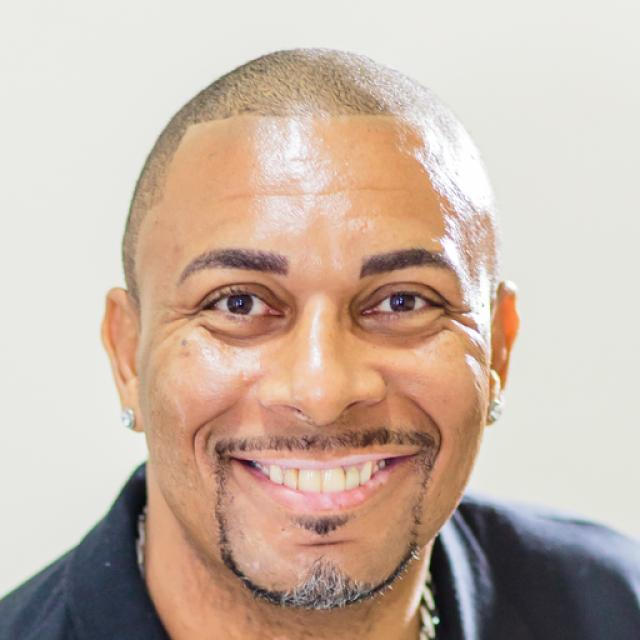Dark Circle: (352, 311, 445, 346), (206, 312, 297, 346)
Wrinkle: (229, 182, 424, 201), (188, 404, 229, 480), (406, 392, 444, 472)
